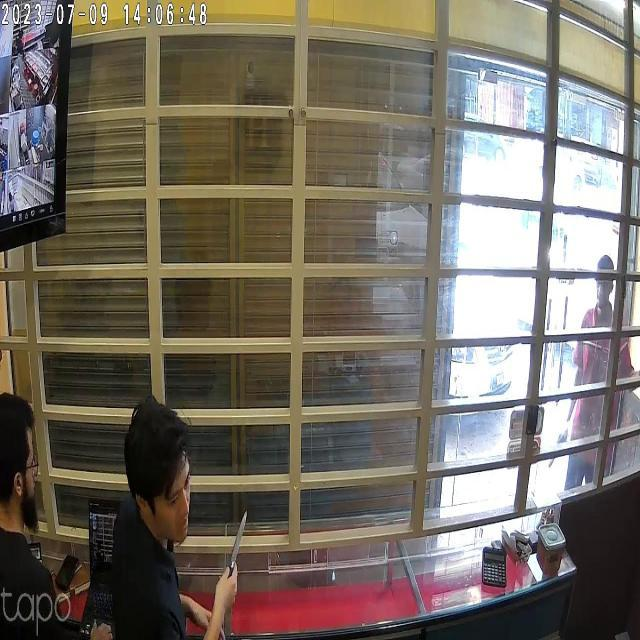Knife: (222, 505, 268, 576)
